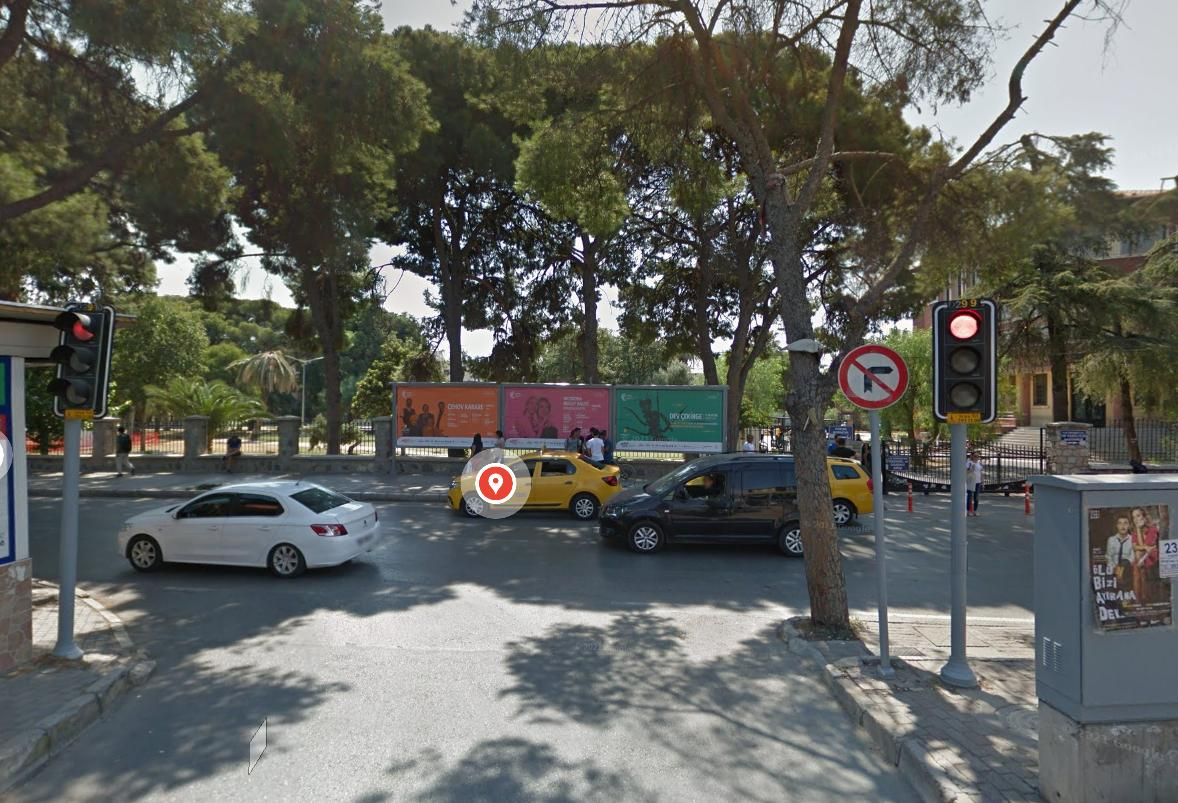redlight: (939, 306, 990, 410), (57, 308, 106, 404)
rightturnsareforbidden: (839, 347, 904, 405)
